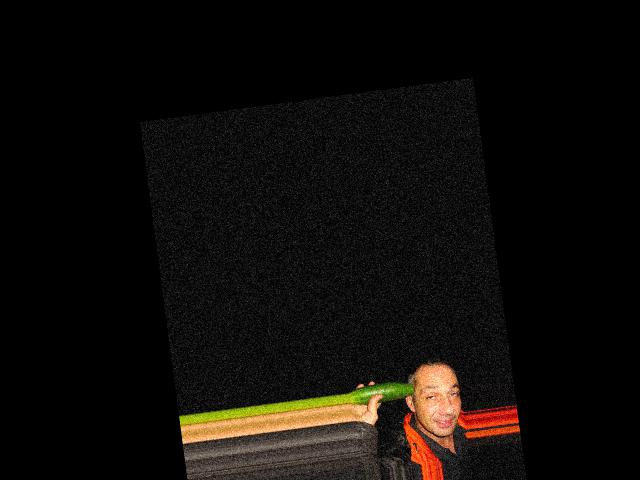cucumber: (348, 379, 416, 406)
